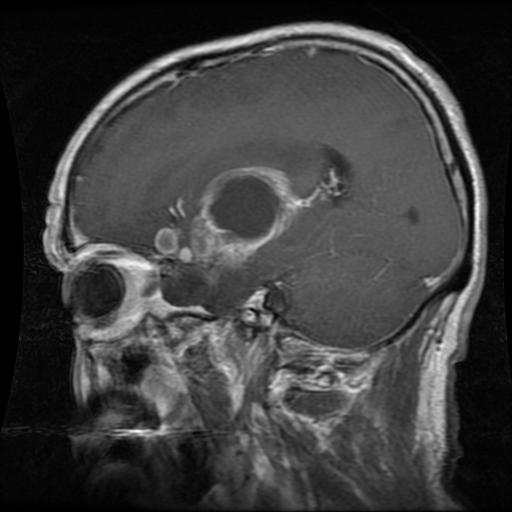Gliomia_tumour: (155, 165, 304, 285)
